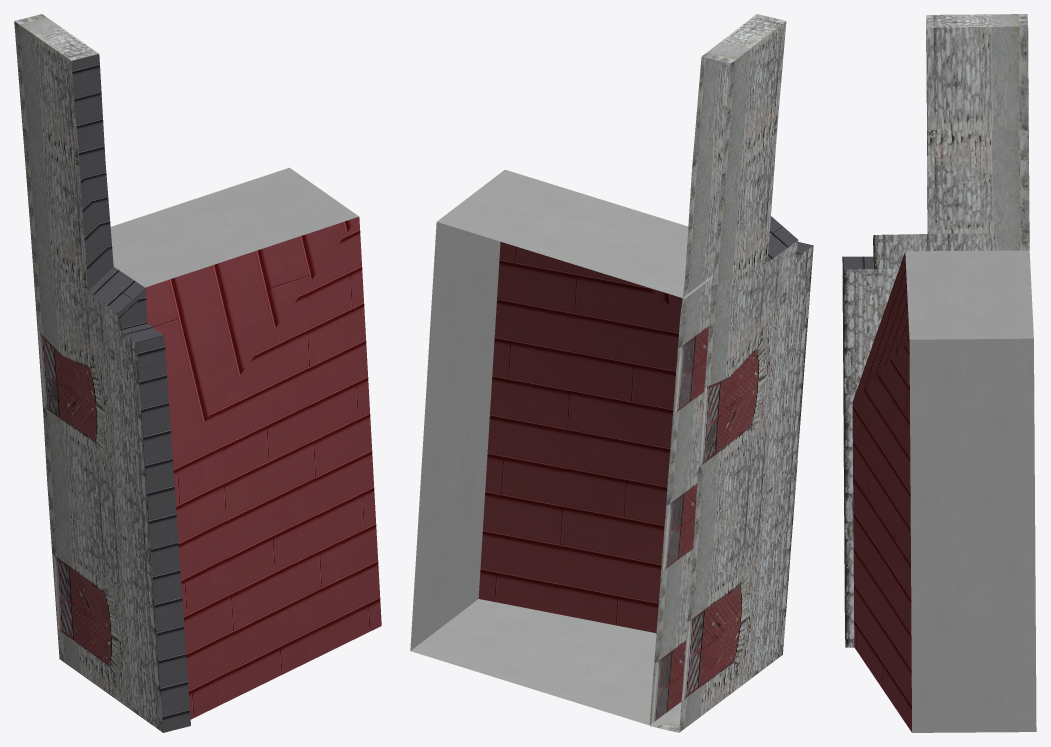
The model's file is Uus10a-origo.obj.
The picture shows the model from 3 angles, left to right: view 1: azimuth 30°, elevation 25°; view 2: azimuth 150°, elevation 25°; view 3: azimuth 270°, elevation 25°; orthographic projection. The views are drawn at different scales.
Visible parts, largest first — view 1: Default; view 2: Default; view 3: Default.
Boxes of the visible parts, x1,y1,x2,y2 form: Default: [14, 14, 381, 732]; Default: [410, 14, 813, 732]; Default: [842, 14, 1036, 732].
Size of the model in its own units: 8.81 by 18 by 5.29.
